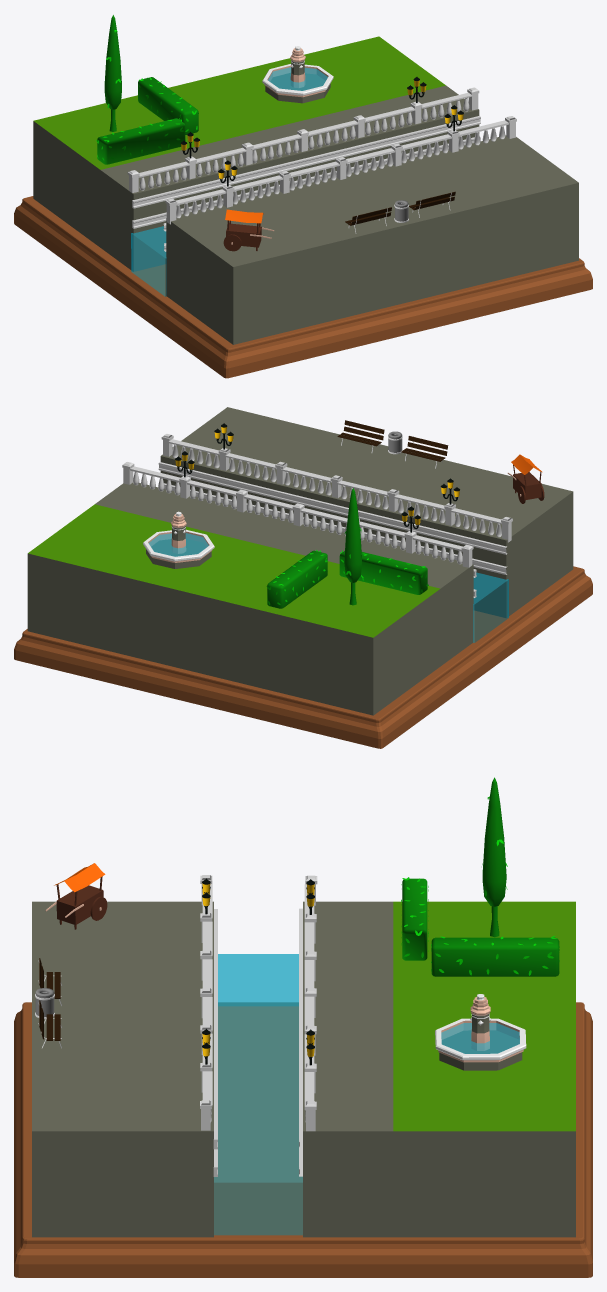
File: Level53.FBX
3 views of the same model, one above another, from view 1: azimuth 30°, elevation 25°; view 2: azimuth 150°, elevation 25°; view 3: azimuth 270°, elevation 25° (orthographic). The views are drawn at different scales.
Visible parts, largest first — view 1: Box156; view 2: Box156; view 3: Box156.
Boxes of the visible parts, x1,y1,x2,y2 form: Box156: (14, 15, 592, 378); Box156: (14, 407, 592, 748); Box156: (14, 777, 592, 1277).
Bounding box in the file's own units: 336 × 191 × 336.
